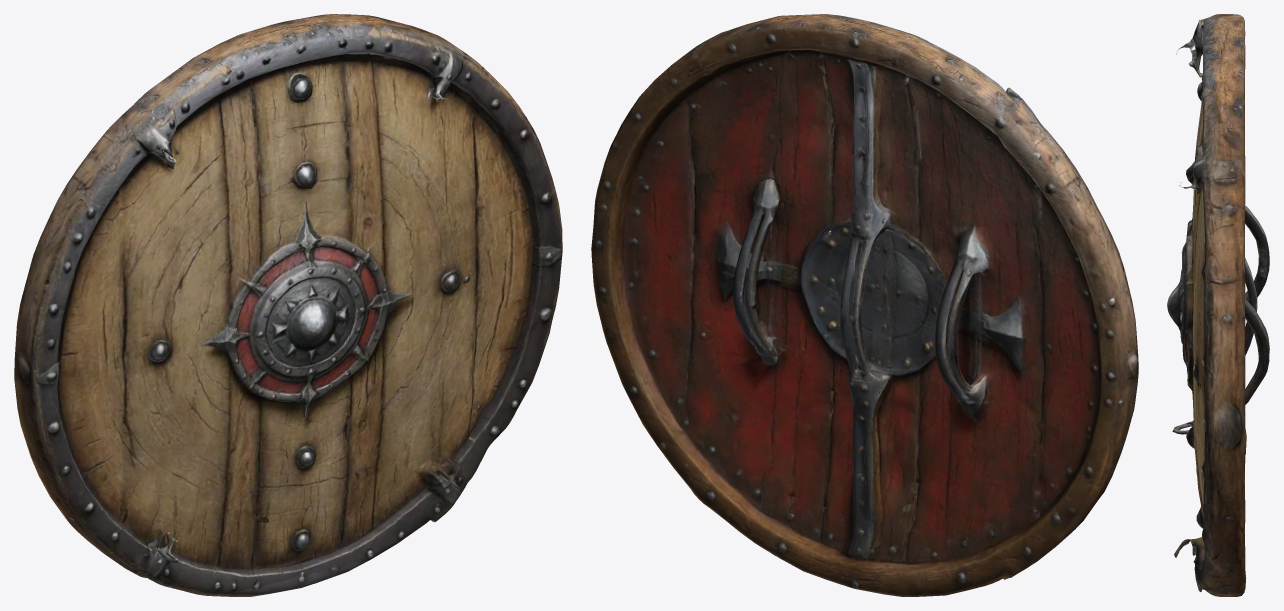
The picture shows the model from 3 angles, left to right: view 1: azimuth 30°, elevation 25°; view 2: azimuth 150°, elevation 25°; view 3: azimuth 270°, elevation 25°; orthographic projection. The views are drawn at different scales.
Visible parts, largest first — view 1: Mesh_0; view 2: Mesh_0; view 3: Mesh_0.
Boxes of the visible parts, x1,y1,x2,y2 form: Mesh_0: (14, 14, 562, 596); Mesh_0: (591, 14, 1138, 596); Mesh_0: (1167, 14, 1269, 596).
Size of the model in its own units: 2 by 2 by 0.3525.
Materials: 1 (1 with a texture image).
